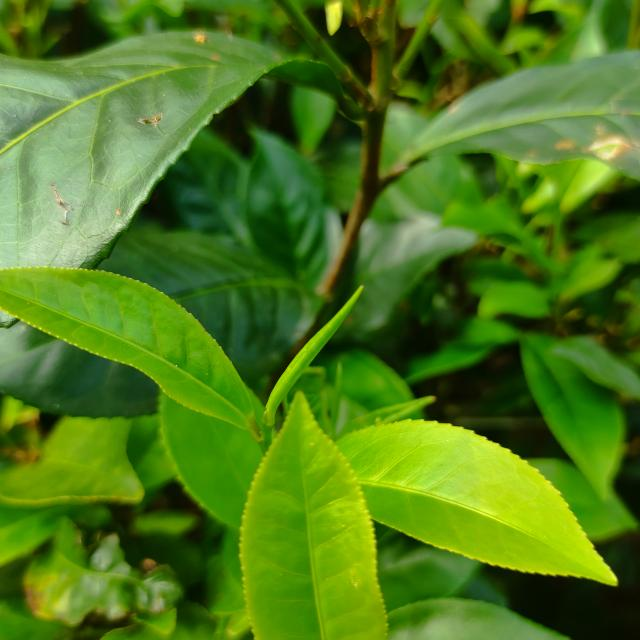unopened_leaf: (252, 279, 378, 434)
